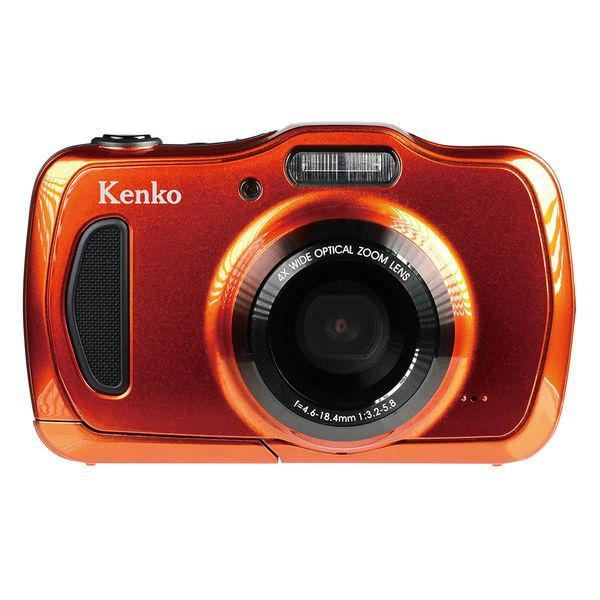degital-camera: (20, 113, 584, 472)
